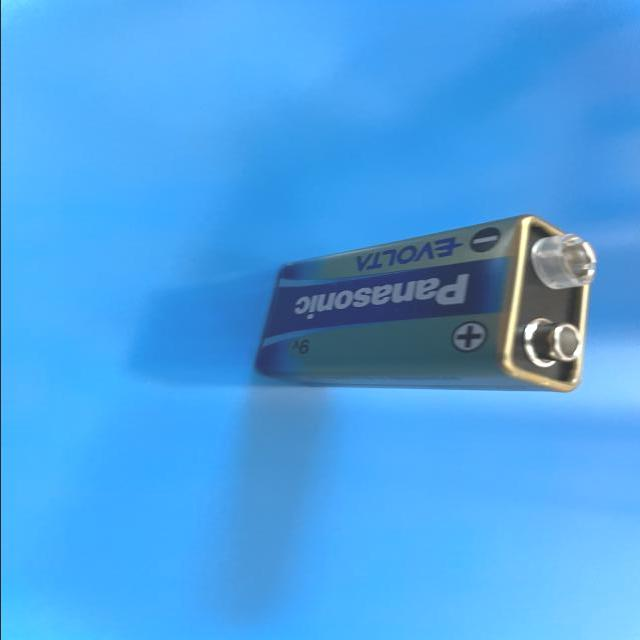9V: (253, 214, 593, 393)
